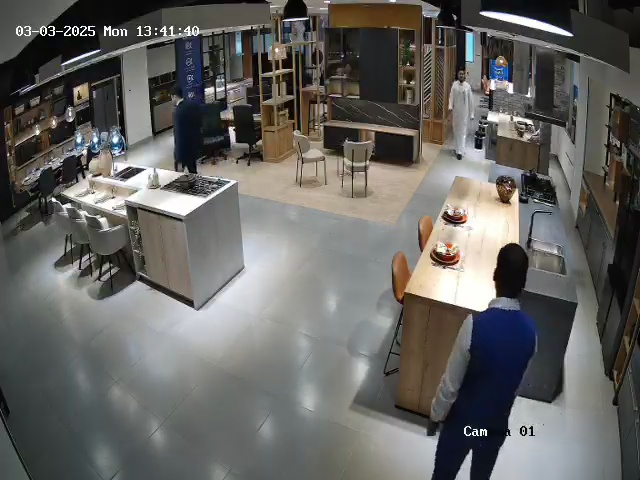employee: (426, 242, 538, 480), (170, 86, 202, 174)
male: (448, 68, 475, 160)
